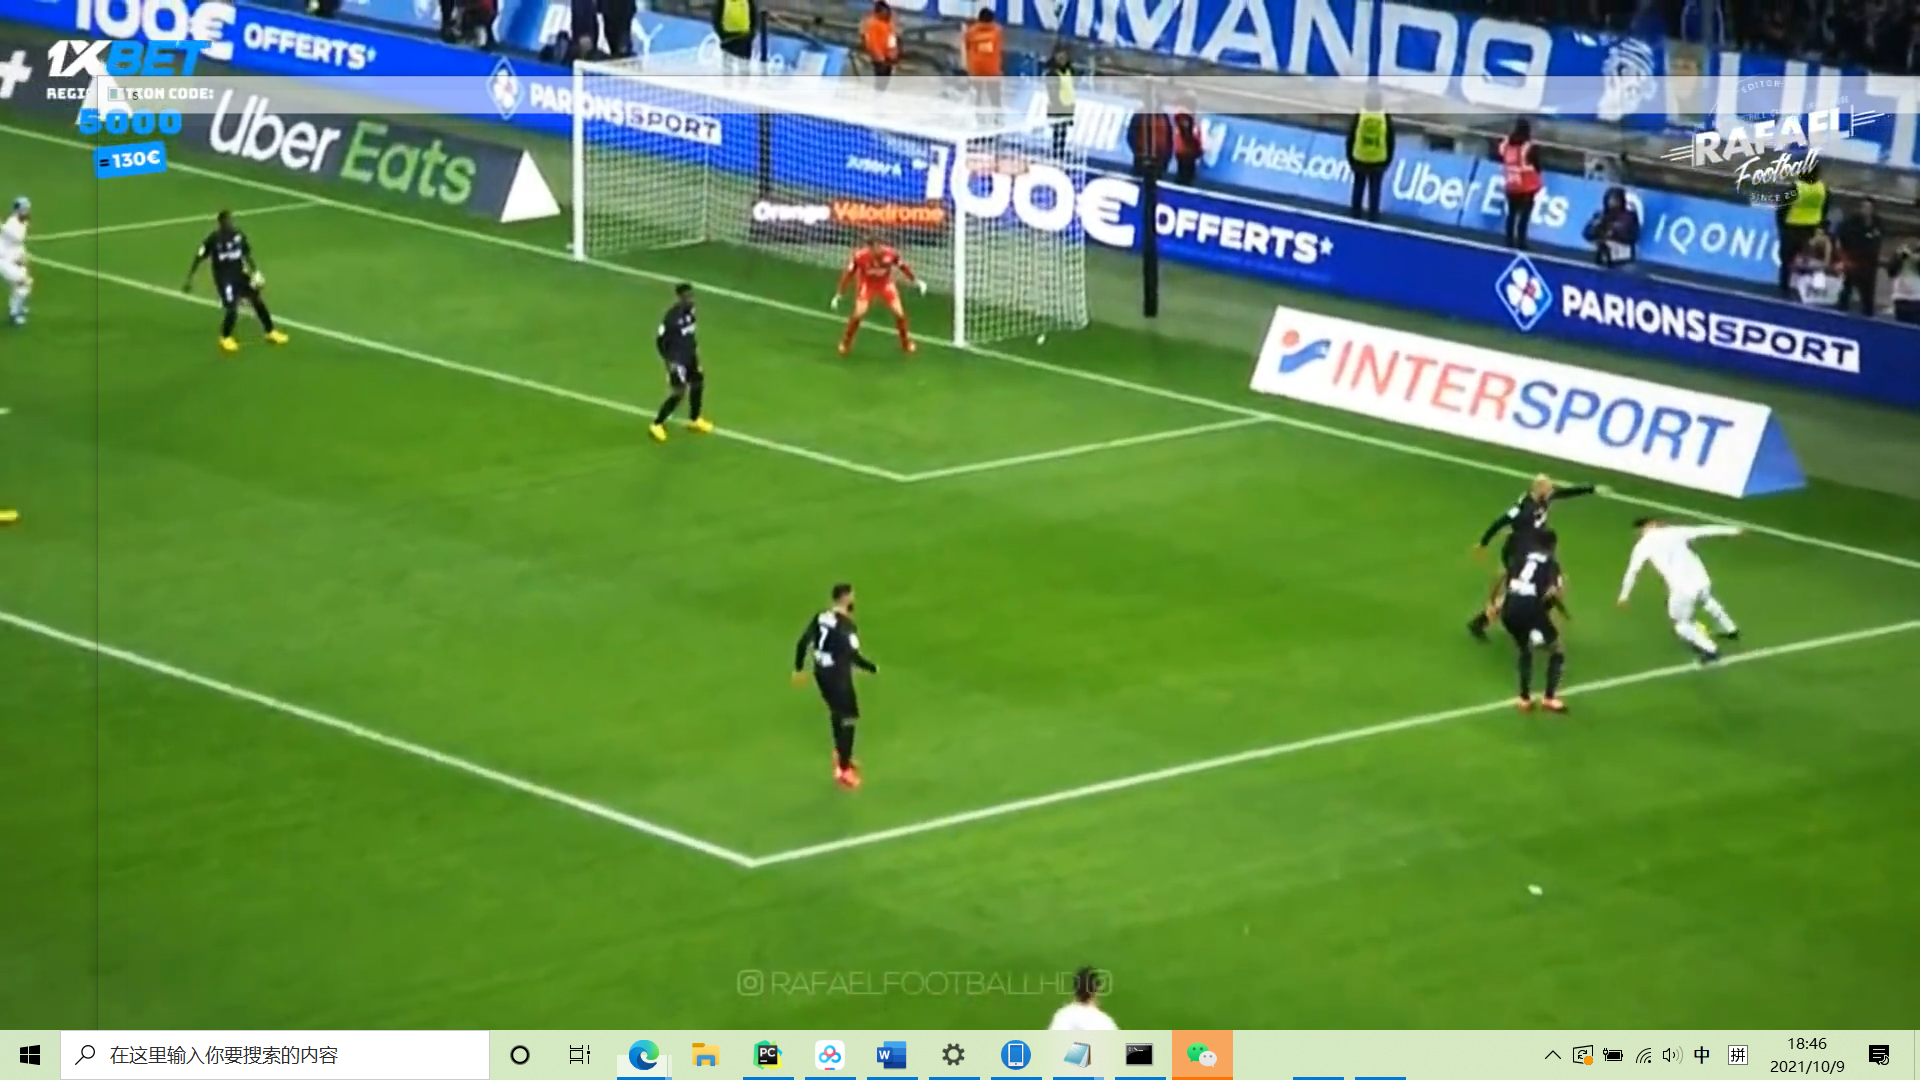ft: (1530, 629, 1552, 651)
